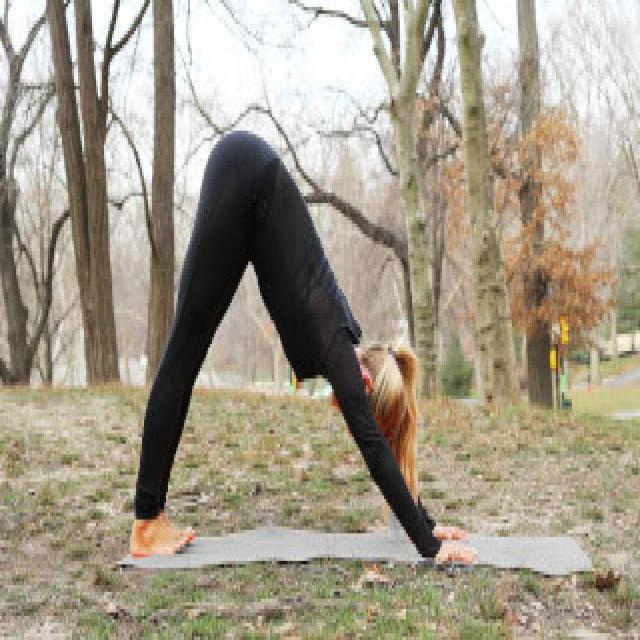yoga-pose downward: (128, 132, 470, 568)
